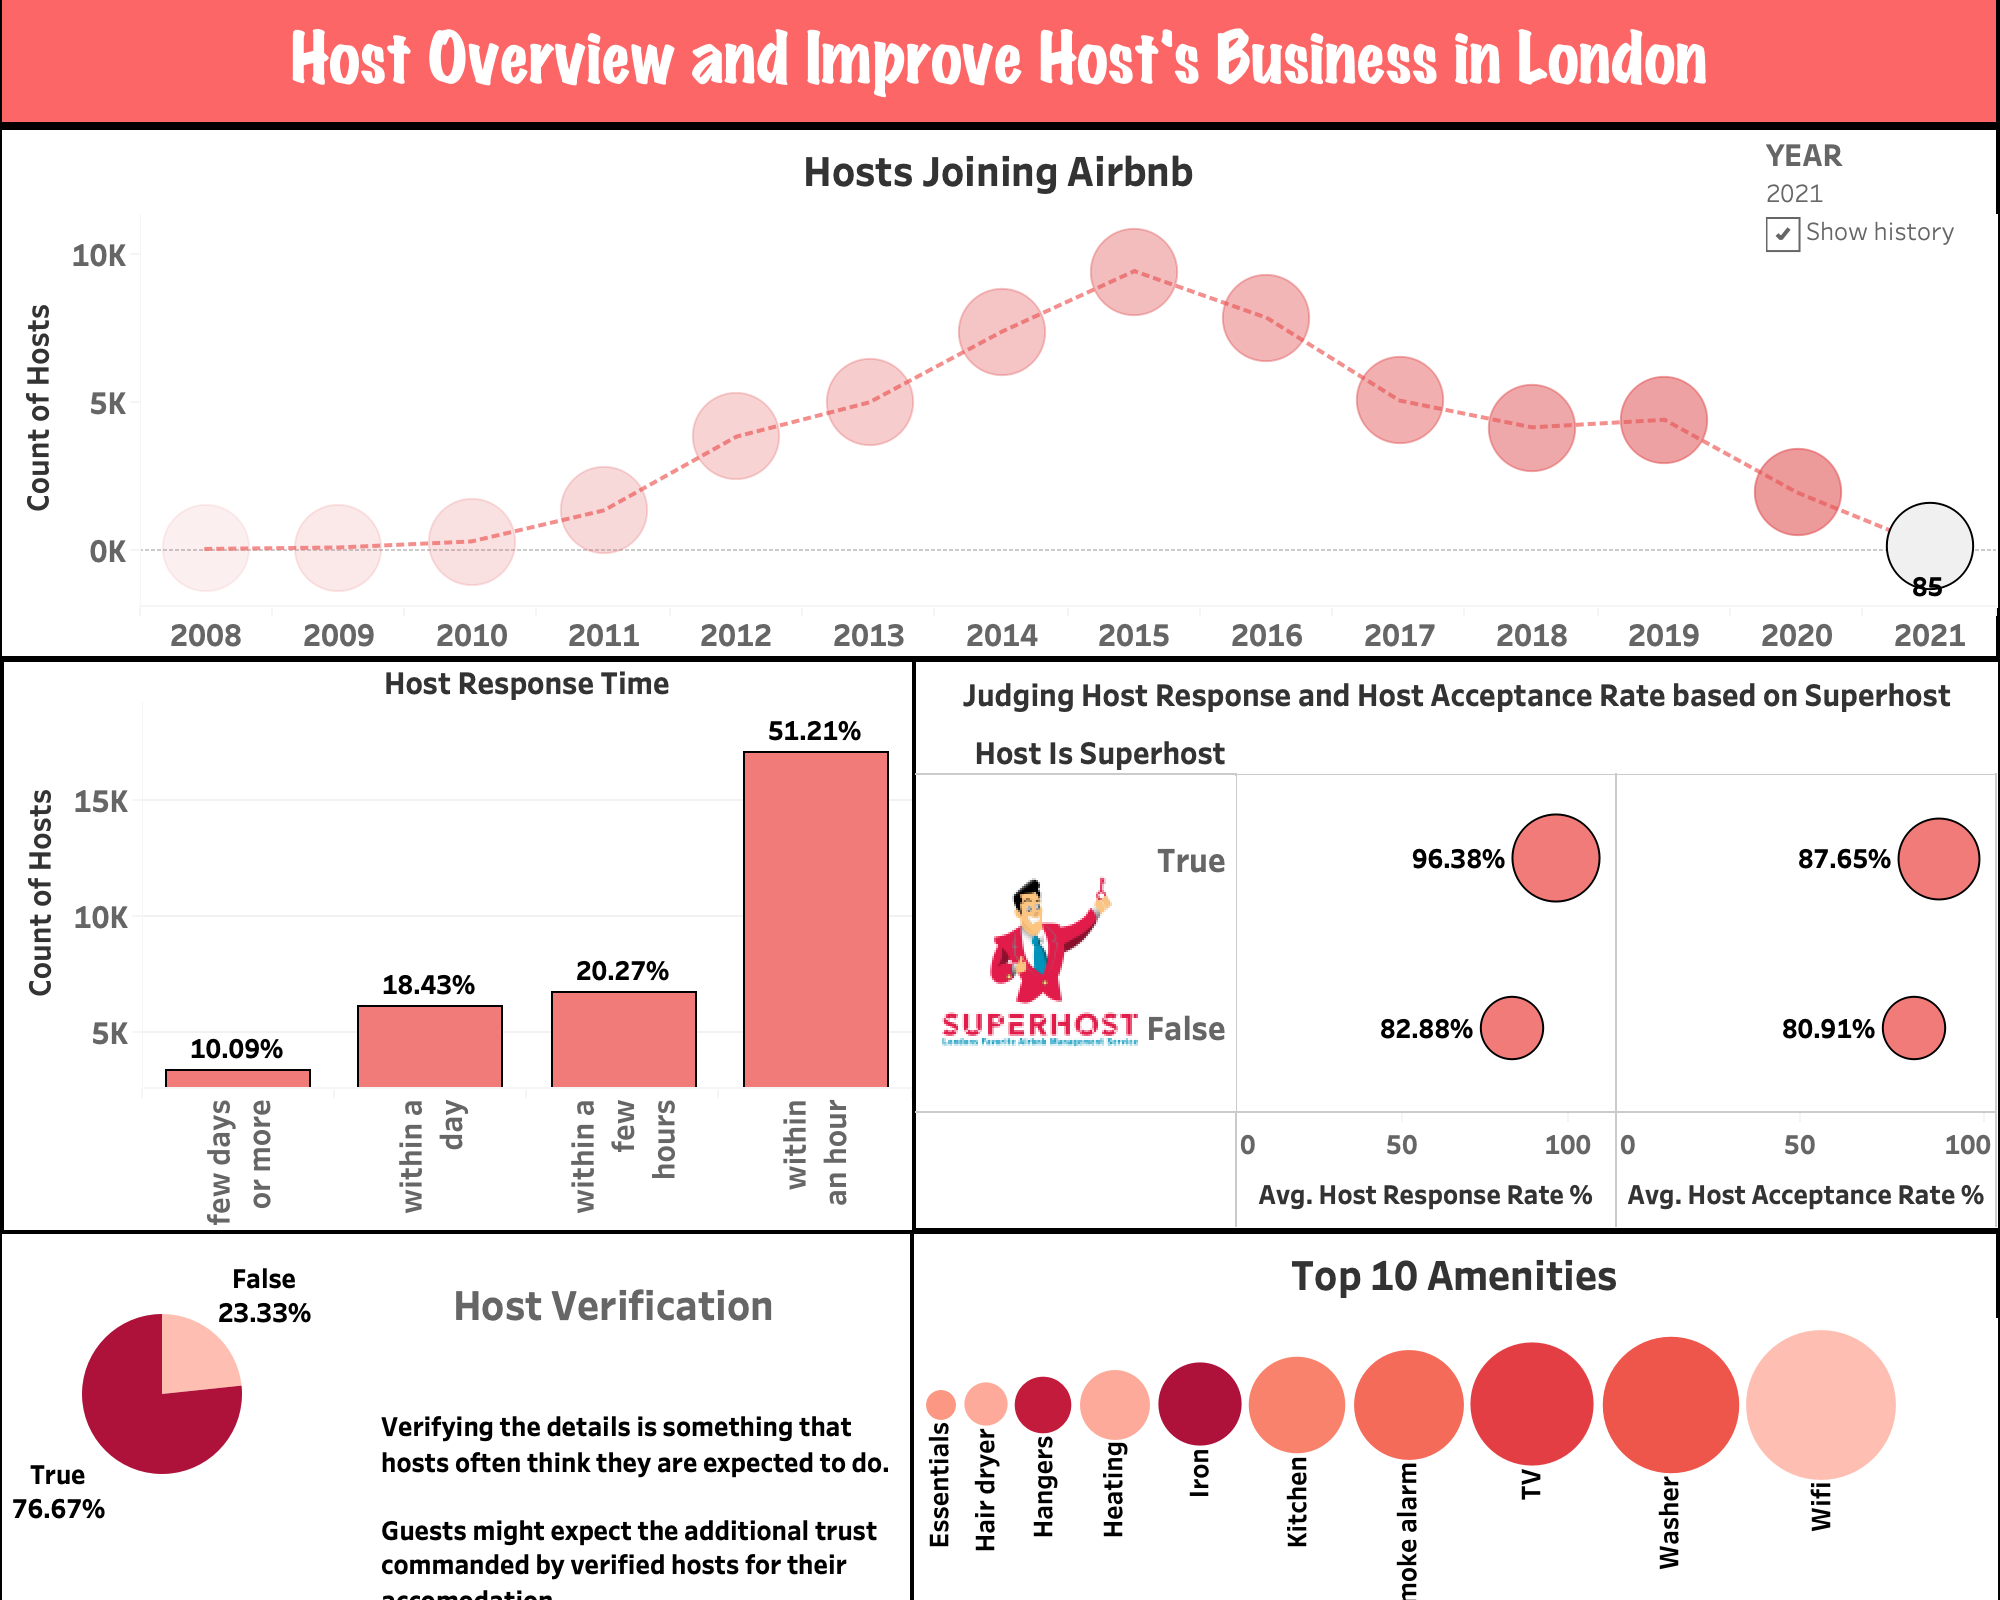

The dashboard page shown, as its layout file describes it:
{"tool":"tableau","page":{"name":"Hosts","canvas":[1000,800],"ordinal":1},"visuals":[{"type":"worksheet","param":"/Users/saranyapandiaraj/Desktop/SJSU/Semester 2/Data 230 - Data Visualization/As","box":[5,1,59,59]},{"type":"worksheet","param":"/Users/saranyapandiaraj/Desktop/SJSU/Semester 2/Data 230 - Data Visualization/As","box":[936,2,59,59]},{"type":"worksheet","title":"Hosts Joining Airbnb","mark":"Circle","rows":["host_id"],"cols":["host_since"],"box":[883,66,114,67]},{"type":"worksheet","title":"Host Response Time","mark":"Automatic","rows":["host_id"],"cols":["host_response_time"],"box":[0,329,458,288]},{"type":"worksheet","title":"Judging Host Response","mark":"Circle","rows":["host_is_superhost"],"cols":["host_response_rate","Calculation_6814931441143828483"],"box":[456,329,545,287]},{"type":"worksheet","param":"/Users/saranyapandiaraj/Desktop/SJSU/Semester 2/Data 230 - Data Visualization/As","box":[448,407,144,217]},{"type":"worksheet","box":[224,621,174,62]}]}

Visuals, with their boxes in screenshot pixels (x1, y1, x2, y2), scaled from the page's 1000x800 canvas onto the 2000x1600 screenshot:
worksheet: {"x1": 10, "y1": 2, "x2": 128, "y2": 120}
worksheet: {"x1": 1872, "y1": 4, "x2": 1990, "y2": 122}
"Hosts Joining Airbnb" worksheet (Circle marks): {"x1": 1766, "y1": 132, "x2": 1994, "y2": 266}
"Host Response Time" worksheet: {"x1": 0, "y1": 658, "x2": 916, "y2": 1234}
"Judging Host Response" worksheet (Circle marks): {"x1": 912, "y1": 658, "x2": 1999, "y2": 1232}
worksheet: {"x1": 896, "y1": 814, "x2": 1184, "y2": 1248}
worksheet: {"x1": 448, "y1": 1242, "x2": 796, "y2": 1366}
